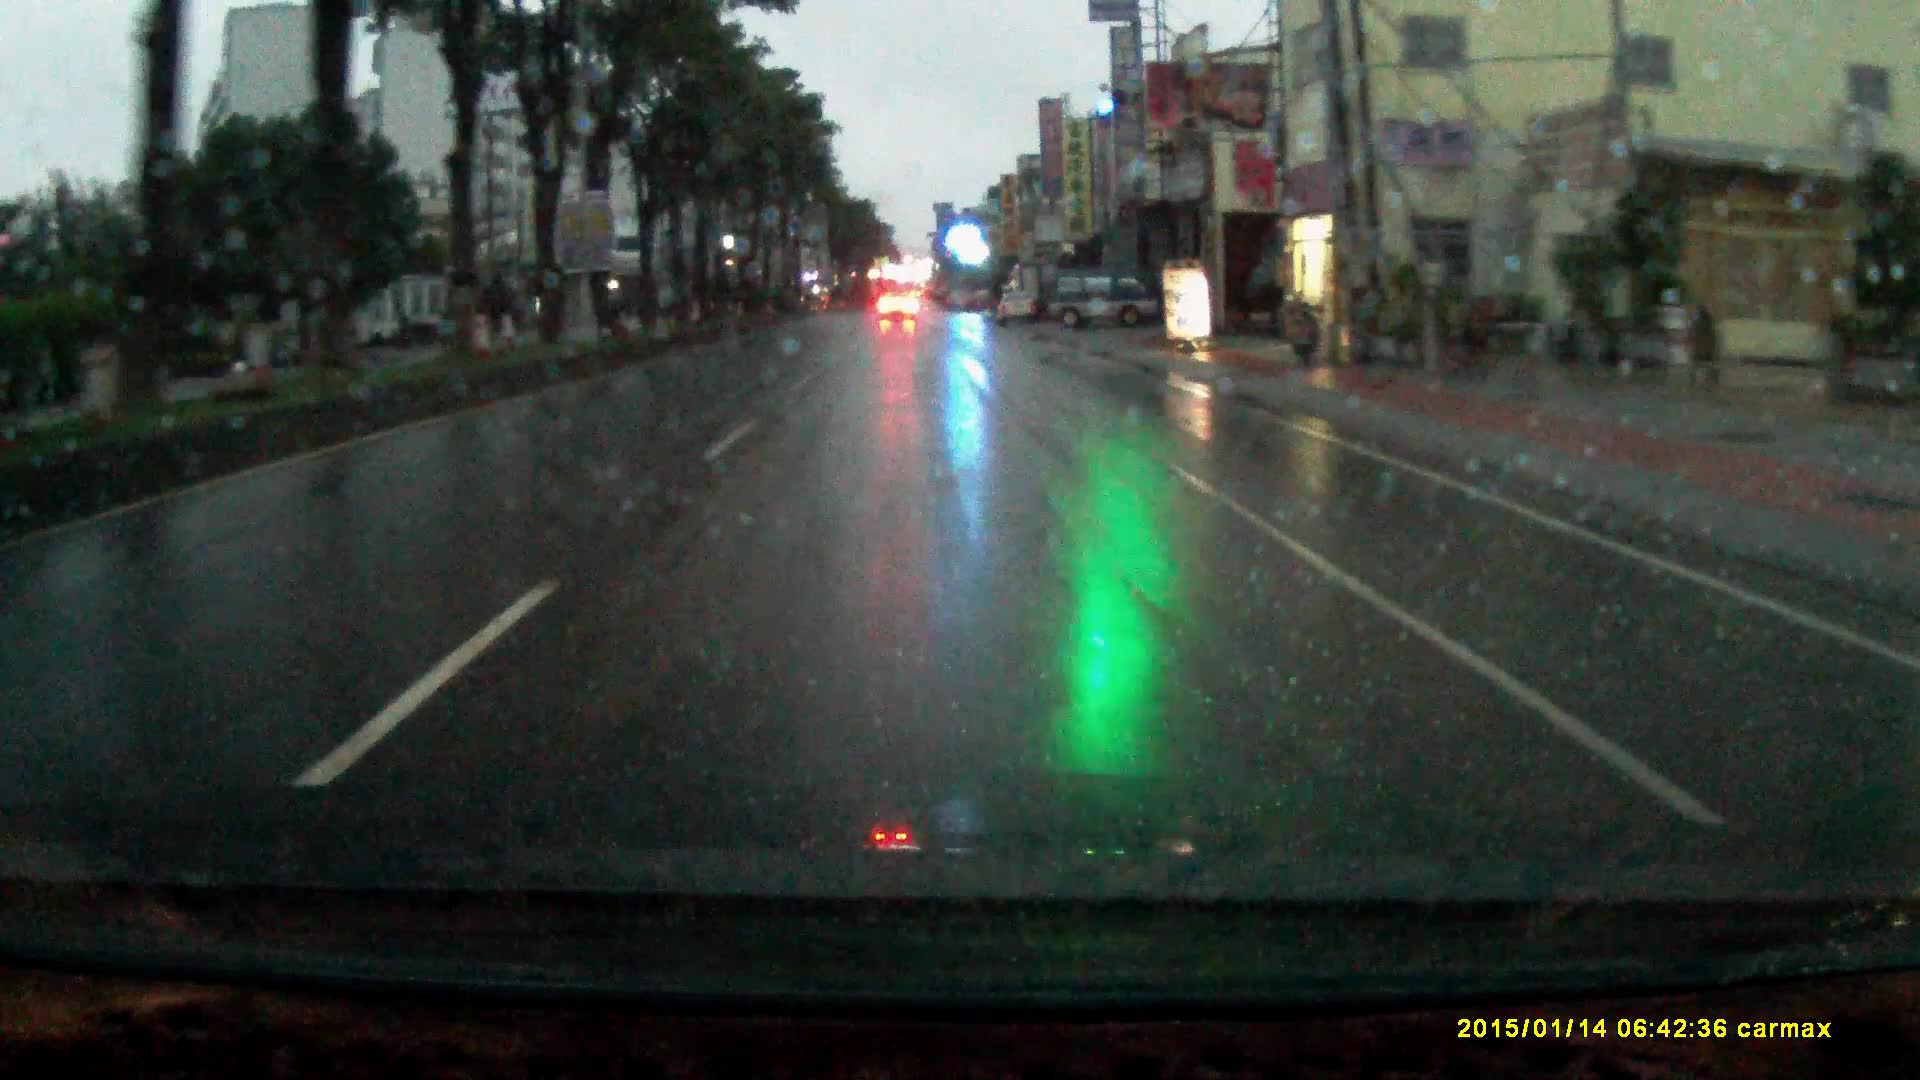vehicle: (1048, 273, 1162, 334), (996, 290, 1039, 326), (877, 289, 920, 322)
